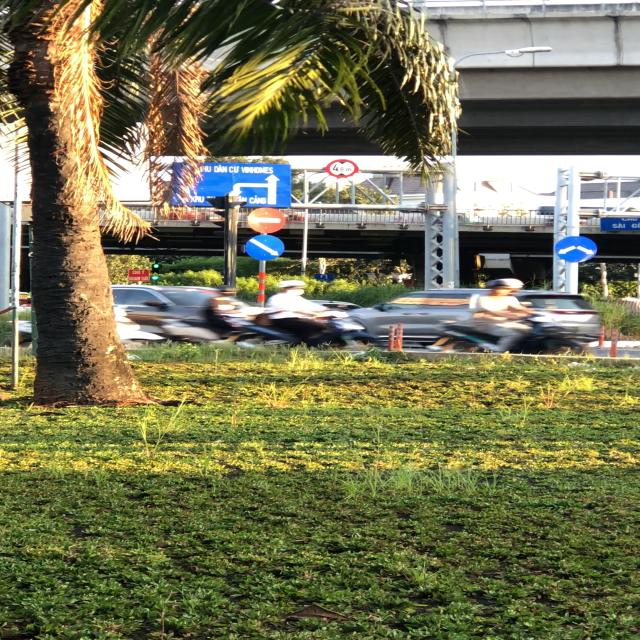Bien bao cam di nguoc chieu: (245, 203, 288, 234)
Bien bao han che chieu cao: (326, 158, 360, 178)
Bien bao huong phai di vong chuong ngai vat: (550, 233, 606, 264), (241, 234, 287, 262)
